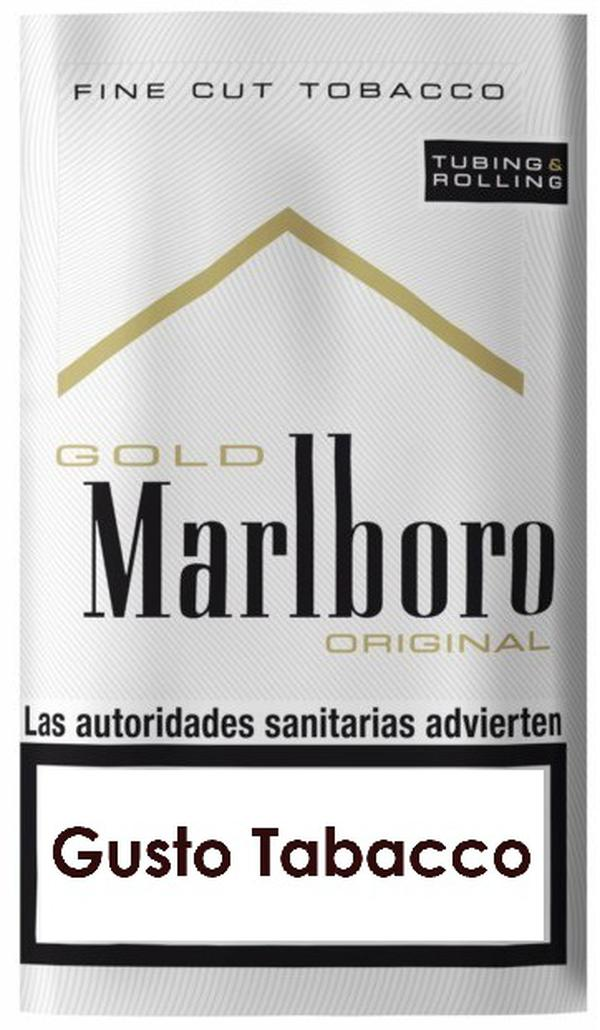marlboro_gold: (21, 19, 570, 965)
